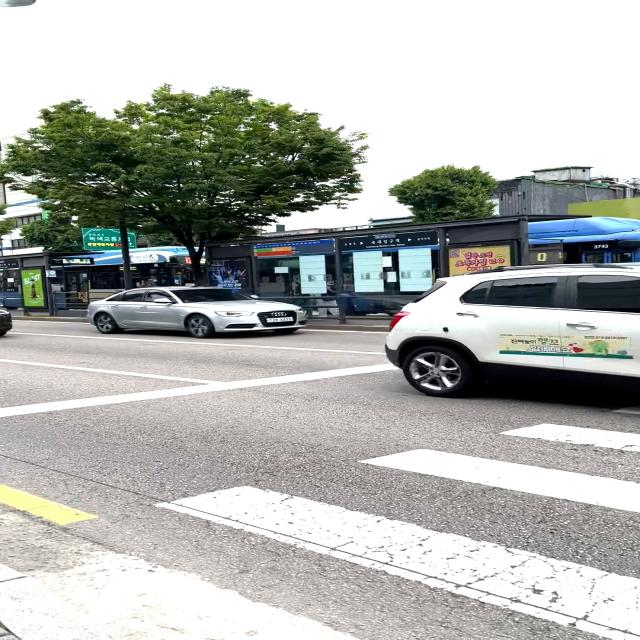building: (499, 159, 640, 222)
car: (384, 262, 639, 397), (86, 285, 307, 338)
